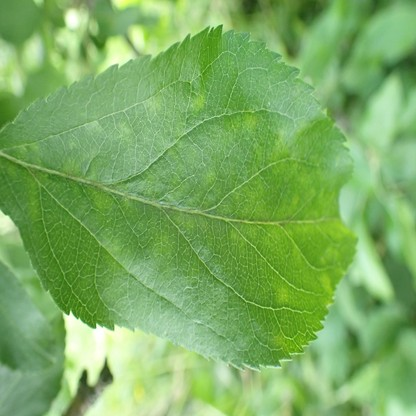scab: (267, 183, 339, 236), (267, 127, 295, 177), (236, 173, 262, 214), (172, 211, 206, 236), (164, 130, 186, 165), (231, 224, 257, 250), (323, 216, 350, 241), (90, 180, 112, 210), (152, 235, 169, 265), (102, 236, 123, 257), (28, 175, 37, 221), (59, 161, 81, 179), (142, 94, 163, 112), (169, 176, 184, 199), (319, 272, 333, 296), (244, 111, 258, 133), (320, 246, 337, 263), (190, 92, 206, 110), (253, 140, 263, 165), (277, 287, 289, 305), (205, 166, 217, 183), (119, 120, 130, 137), (6, 163, 16, 178)
